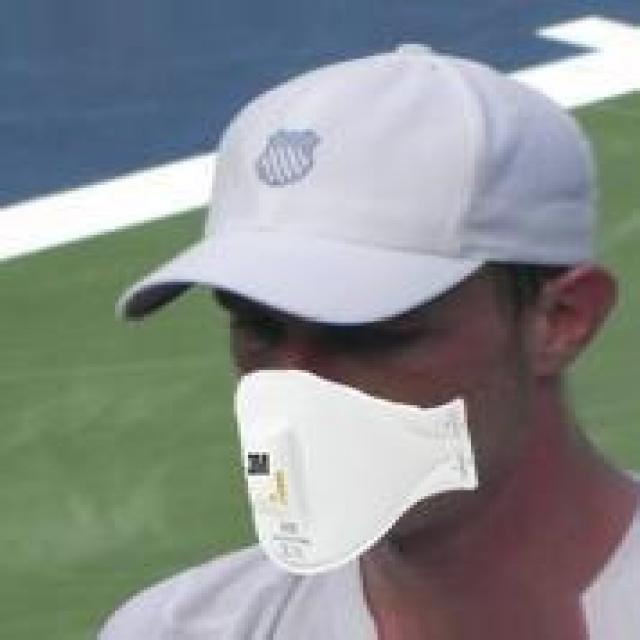mask: (162, 79, 622, 570)
